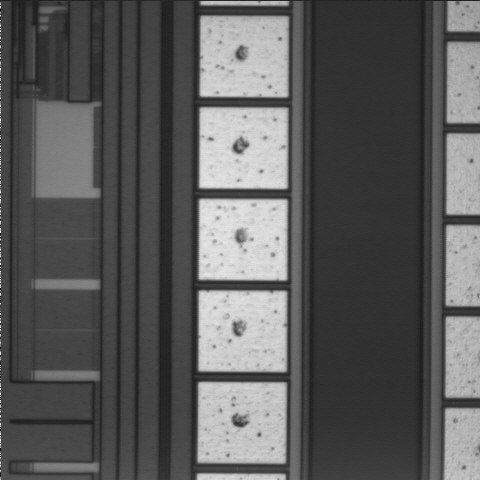pad: (199, 108, 287, 189), (199, 199, 287, 280), (200, 17, 288, 97), (198, 383, 286, 463), (199, 291, 286, 371)
